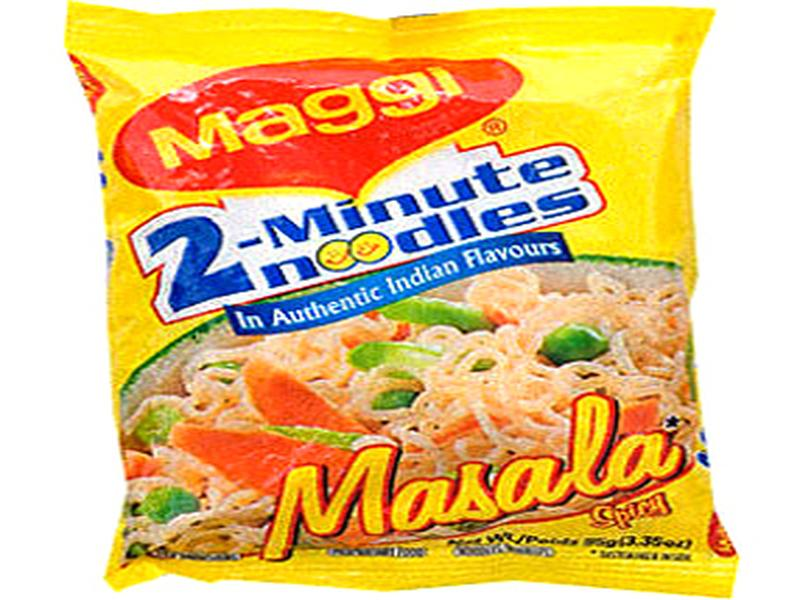maggi-small: (67, 3, 747, 600)
